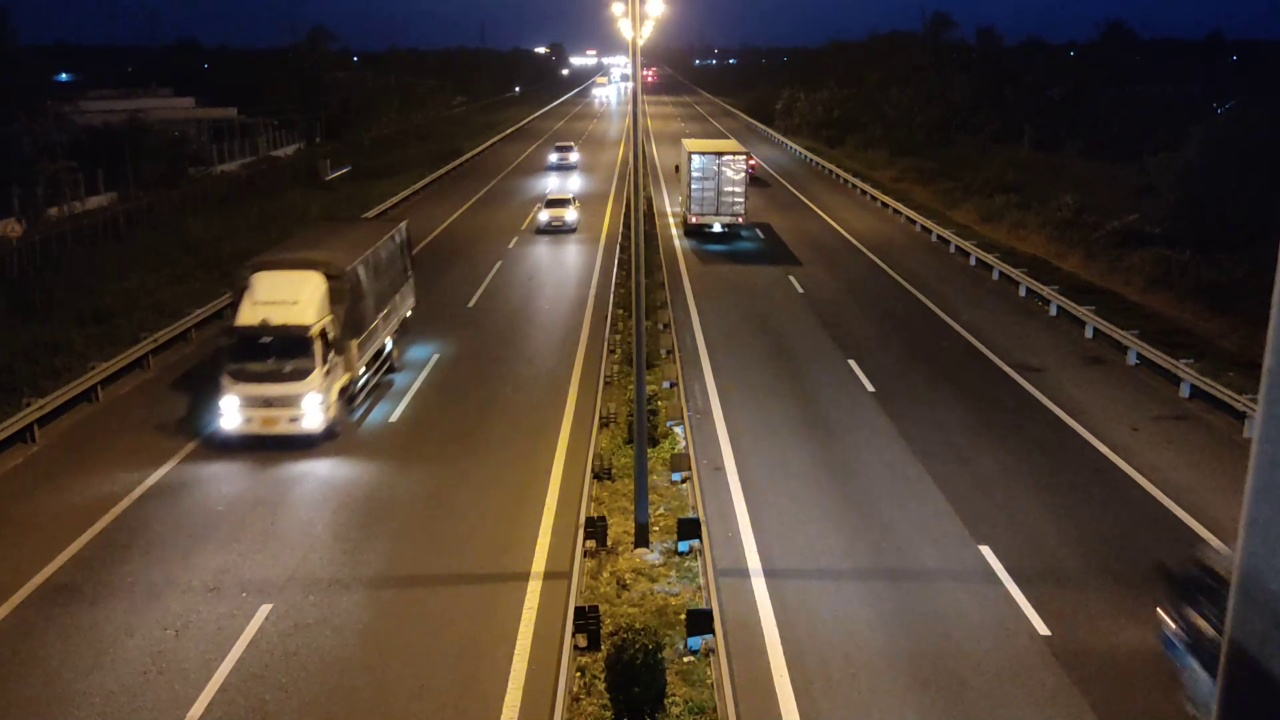car: (535, 193, 581, 233), (545, 141, 581, 171)
truck: (193, 215, 418, 449), (679, 137, 749, 237)
